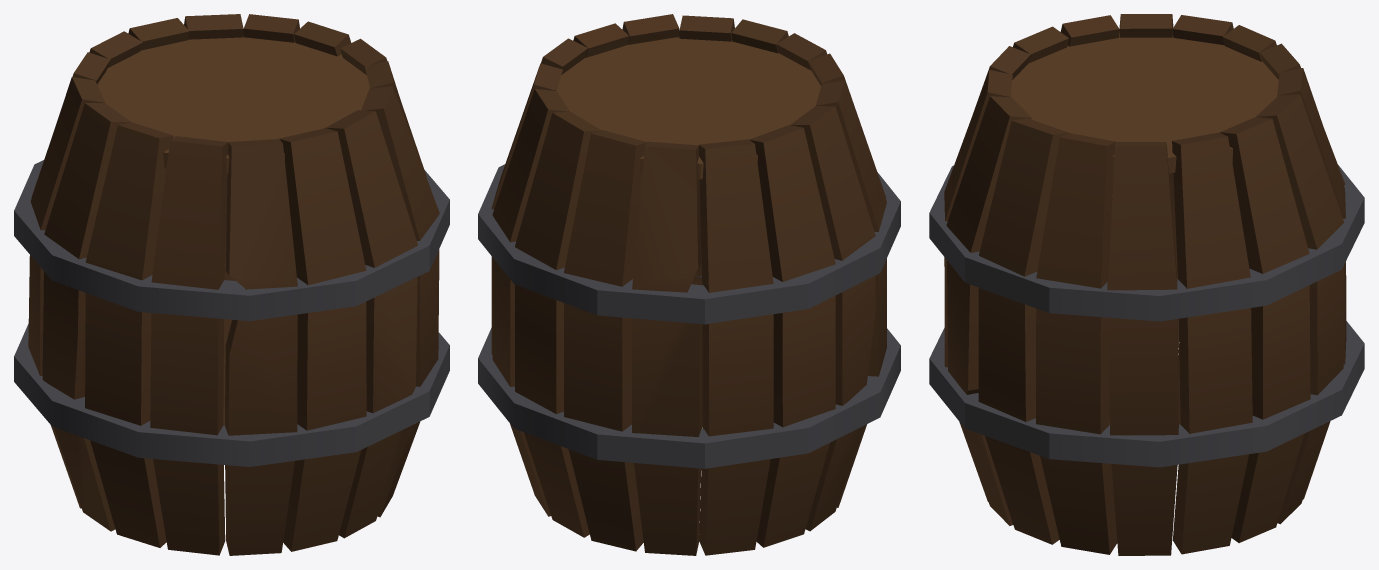
The model's file is barrel_1.fbx.
3 renders of one model, left to right at view 1: azimuth 30°, elevation 25°; view 2: azimuth 150°, elevation 25°; view 3: azimuth 270°, elevation 25°, orthographic.
Parts seen in each view (by area): view 1: barrel_1; view 2: barrel_1; view 3: barrel_1.
Part boxes in pixels (x1=…): barrel_1: x1=14, y1=14, x2=449, y2=555; barrel_1: x1=478, y1=14, x2=900, y2=555; barrel_1: x1=929, y1=14, x2=1364, y2=555.
Bounding box in the file's own units: 156 × 164 × 158.
